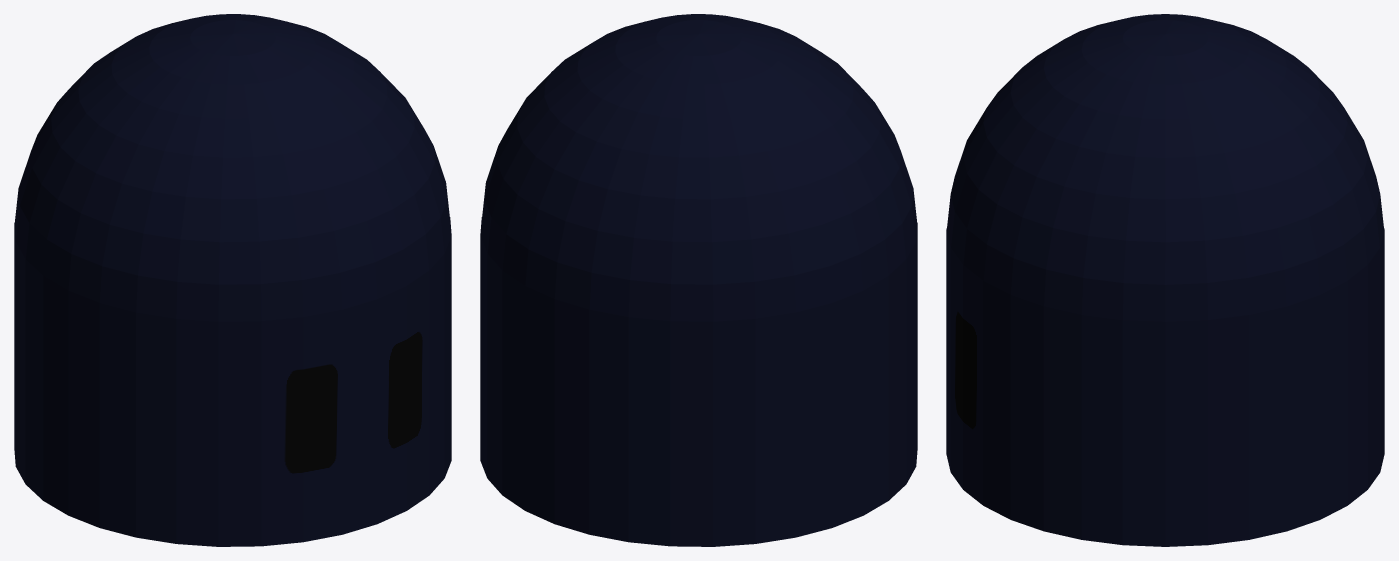
The model's file is Voidling.fbx.
3 views of the same model, side by side, from view 1: azimuth 30°, elevation 25°; view 2: azimuth 150°, elevation 25°; view 3: azimuth 270°, elevation 25° (orthographic).
Visible parts, largest first — view 1: Cylinder; view 2: Cylinder; view 3: Cylinder.
Boxes of the visible parts, x1,y1,x2,y2 form: Cylinder: [14, 14, 451, 546]; Cylinder: [480, 14, 917, 546]; Cylinder: [946, 14, 1384, 546].
Size of the model in its own units: 200 by 212 by 200.
